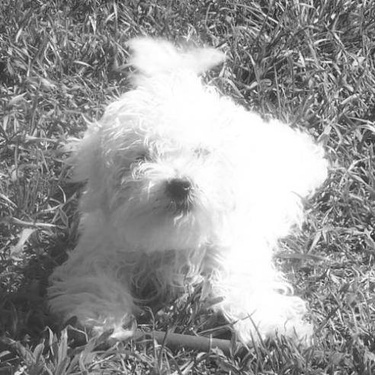dog: (25, 25, 340, 350)
